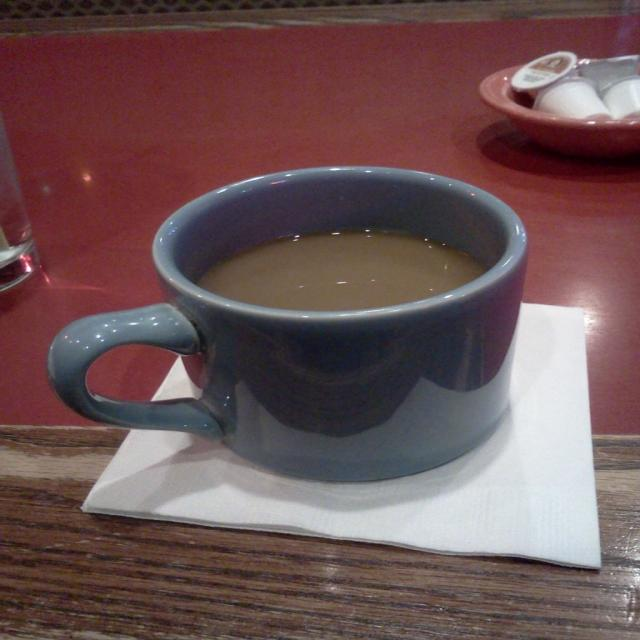Coffee: (66, 166, 546, 497)
Tea: (192, 232, 486, 312)
